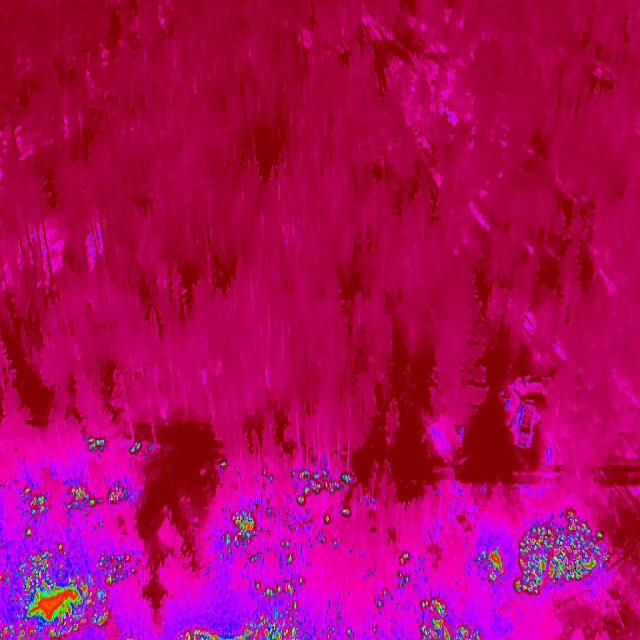fire: (214, 454, 360, 594), (0, 540, 141, 639), (472, 507, 612, 597), (16, 480, 137, 538), (168, 599, 310, 640), (408, 598, 487, 640), (391, 545, 416, 586), (82, 429, 110, 458), (128, 436, 158, 462)
